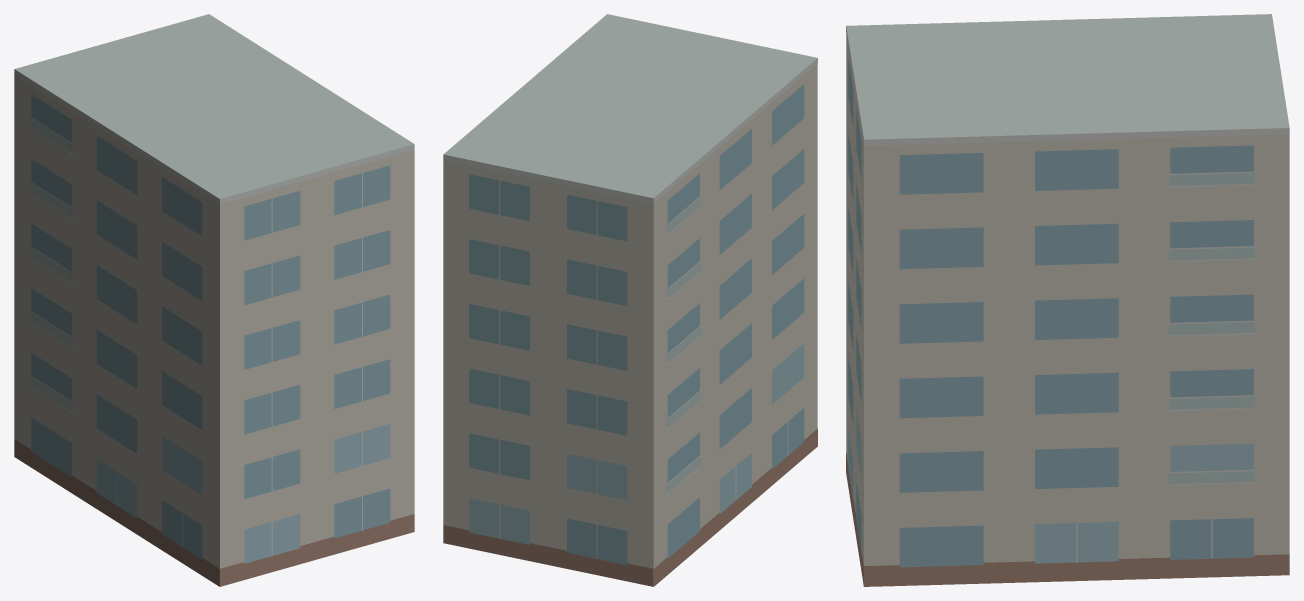
File: survey-upis-32872883.glb
The picture shows the model from 3 angles, left to right: view 1: azimuth 30°, elevation 25°; view 2: azimuth 150°, elevation 25°; view 3: azimuth 270°, elevation 25°; orthographic projection. The views are drawn at different scales.
Visible parts, largest first — view 1: survey-upis-32872883.tmp; view 2: survey-upis-32872883.tmp; view 3: survey-upis-32872883.tmp.
Boxes of the visible parts, <box> form: survey-upis-32872883.tmp: <box>14,14,414,586</box>; survey-upis-32872883.tmp: <box>443,14,817,586</box>; survey-upis-32872883.tmp: <box>846,14,1289,586</box>.
Size of the model in its own units: 10.37 by 17.2 by 15.47.
